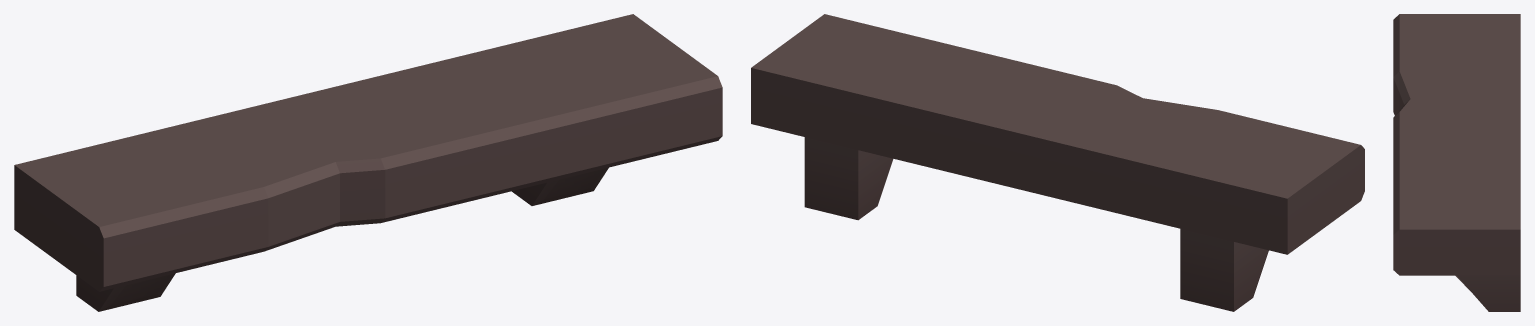
The model's file is shelf_large.glb.
3 renders of one model, left to right at view 1: azimuth 30°, elevation 25°; view 2: azimuth 150°, elevation 25°; view 3: azimuth 270°, elevation 25°, orthographic. The views are drawn at different scales.
Parts seen in each view (by area): view 1: shelf_large; view 2: shelf_large; view 3: shelf_large.
Boxes of the visible parts, x1,y1,x2,y2 form: shelf_large: [14, 14, 722, 311]; shelf_large: [751, 14, 1364, 311]; shelf_large: [1393, 14, 1520, 311].
Size of the model in its own units: 2 by 0.45 by 0.5.
1 material, 1 textured.
